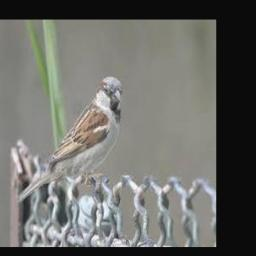Sparrow: (16, 76, 123, 206)
